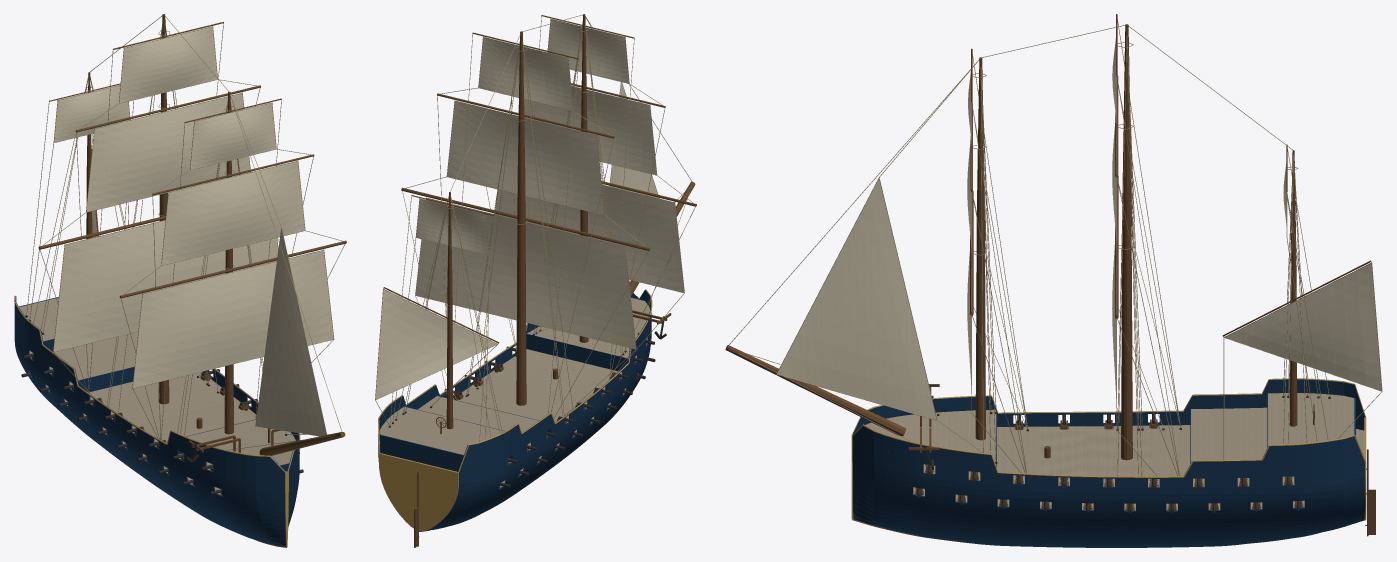
3 views of the same model, side by side, from view 1: azimuth 30°, elevation 25°; view 2: azimuth 150°, elevation 25°; view 3: azimuth 270°, elevation 25° (orthographic). The views are drawn at different scales.
Parts seen in each view (by area): view 1: lod2_hull_shell_starboard, lod2_fore_square_00, lod2_main_square_00, lod2_main_square_01, lod2_fore_square_01, lod2_jib_00, lod2_main_deck, lod2_main_square_02, lod2_fore_square_02, lod2_mizzen_square_00, lod2_castle_deck_1, lod2_castle_deck_2 (+13 smaller); view 2: lod2_main_square_00, lod2_main_square_01, lod2_hull_shell_starboard, lod2_fore_square_00, lod2_mizzen_lateen_01, lod2_main_deck, lod2_fore_square_01, lod2_main_square_02, lod2_stern_closure, lod2_fore_square_02, lod2_castle_deck_0, lod2_main (+15 smaller); view 3: lod2_hull_shell_port, lod2_jib_00, lod2_mizzen_lateen_01, lod2_main_deck, lod2_hull_shell_starboard, lod2_main, lod2_castle_deck_1, lod2_castle_deck_0, lod2_castle_deck_2, lod2_fore, lod2_bowsprit, lod2_mizzen (+2 smaller).
Part boxes in pixels (x1,y1,x2,y2): lod2_hull_shell_starboard: [14, 296, 285, 546]; lod2_fore_square_00: [133, 250, 333, 387]; lod2_main_square_00: [53, 220, 278, 351]; lod2_main_square_01: [86, 93, 250, 211]; lod2_fore_square_01: [161, 161, 304, 265]; lod2_jib_00: [255, 229, 326, 435]; lod2_main_deck: [29, 351, 256, 470]; lod2_main_square_02: [119, 27, 217, 103]; lod2_fore_square_02: [190, 103, 276, 169]; lod2_mizzen_square_00: [54, 85, 129, 142]; lod2_castle_deck_1: [54, 332, 138, 380]; lod2_castle_deck_2: [187, 420, 295, 465]; lod2_main_square_00: [415, 198, 635, 348]; lod2_main_square_01: [447, 101, 604, 214]; lod2_hull_shell_starboard: [427, 290, 651, 530]; lod2_fore_square_00: [495, 185, 684, 292]; lod2_mizzen_lateen_01: [375, 289, 496, 399]; lod2_main_deck: [453, 338, 647, 463]; lod2_fore_square_01: [524, 86, 656, 174]; lod2_main_square_02: [478, 37, 572, 110]; lod2_stern_closure: [379, 453, 458, 531]; lod2_fore_square_02: [548, 19, 628, 83]; lod2_castle_deck_0: [380, 406, 504, 454]; lod2_main: [516, 31, 526, 405]; lod2_hull_shell_port: [852, 426, 1364, 547]; lod2_jib_00: [777, 178, 936, 419]; lod2_mizzen_lateen_01: [1225, 263, 1381, 390]; lod2_main_deck: [923, 425, 1364, 487]; lod2_hull_shell_starboard: [853, 379, 1365, 434]; lod2_main: [1121, 24, 1132, 460]; lod2_castle_deck_1: [1191, 407, 1267, 462]; lod2_castle_deck_0: [1268, 393, 1354, 445]; lod2_castle_deck_2: [865, 409, 996, 465]; lod2_fore: [975, 57, 985, 440]; lod2_bowsprit: [725, 345, 906, 436]; lod2_mizzen: [1289, 150, 1297, 426].
Bounding box in the file's own units: 28.61 × 49.53 × 56.38.
7 materials, 7 textured.
